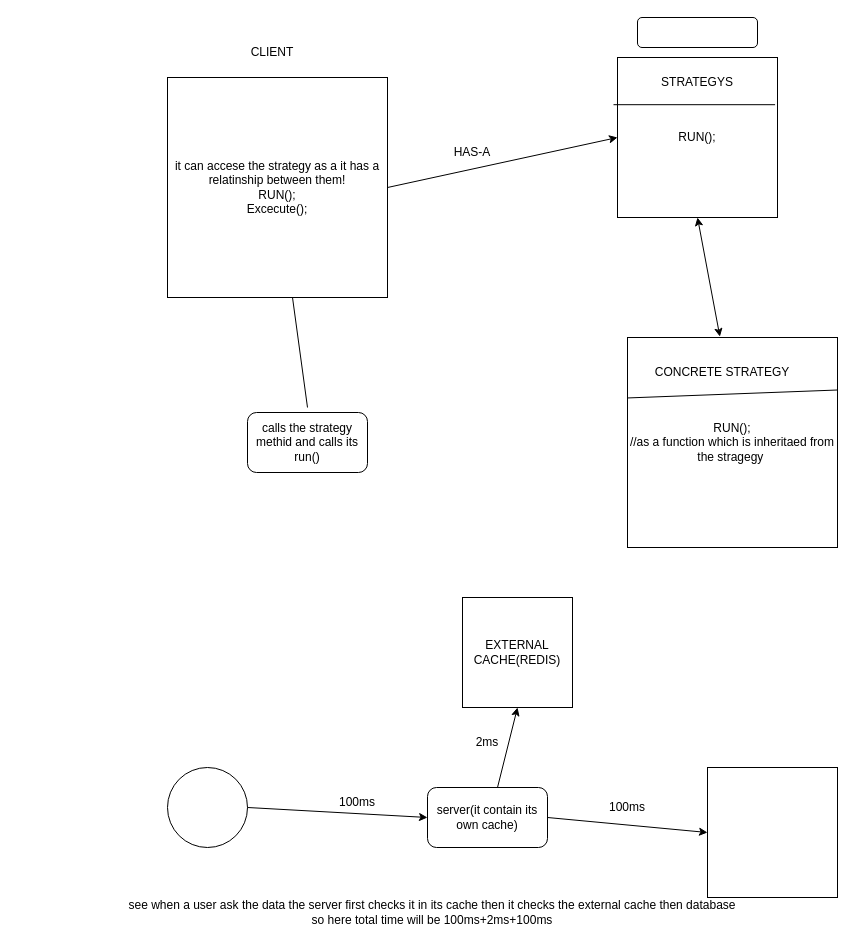
The diagram is 864 pixels wide and 945 high, and some of its shapes have lost their labels. The centre of each missing label's shape, as x and y in pixels:
"<<ABSTRACT>>" goes at [697,32].
"DATABASE(it also contain its chache)" goes at [772,832].
"USER" goes at [207,807].
